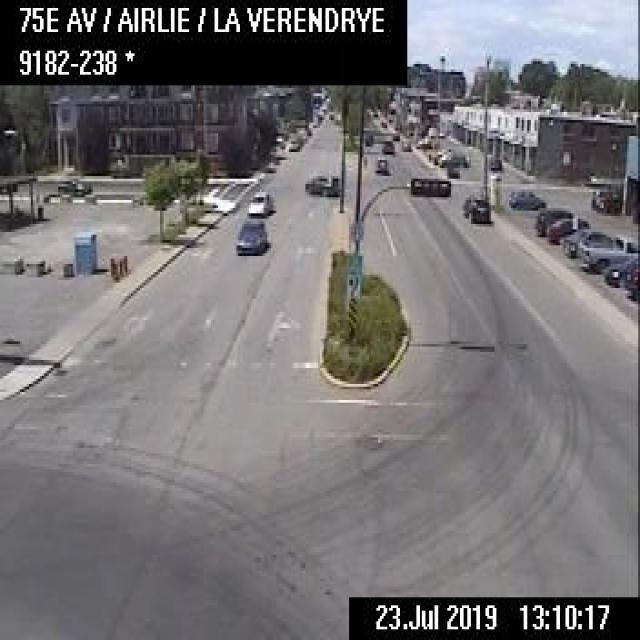construction: (112, 258, 118, 280), (121, 252, 126, 273), (108, 254, 113, 274), (118, 256, 122, 276)
vehicle: (577, 234, 637, 270), (561, 229, 611, 257), (233, 217, 266, 253), (544, 216, 587, 242), (601, 256, 637, 285), (505, 184, 544, 210), (533, 205, 572, 231), (302, 171, 338, 197), (461, 192, 491, 222), (54, 173, 92, 195), (246, 186, 273, 214), (590, 187, 622, 210), (436, 147, 466, 164), (624, 261, 638, 293), (373, 154, 389, 176), (380, 137, 392, 154), (398, 138, 411, 152), (287, 136, 299, 151)
